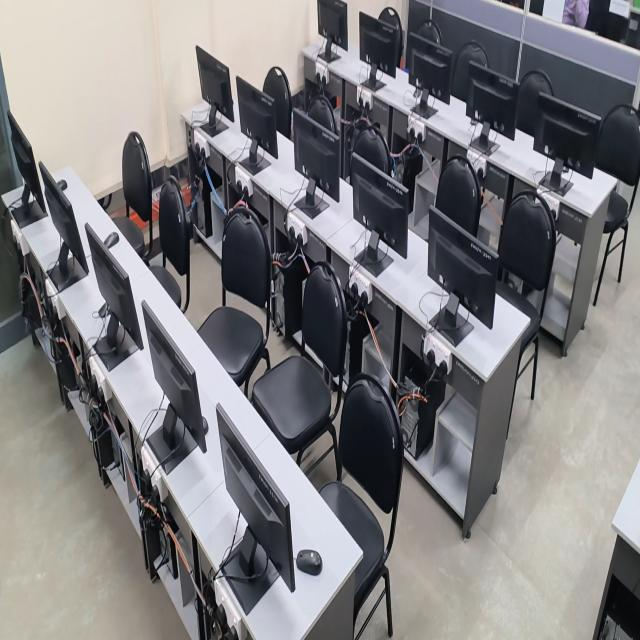Chair: (320, 373, 404, 639), (251, 262, 347, 480), (197, 206, 271, 397), (496, 191, 556, 415), (593, 104, 640, 306), (149, 175, 192, 313), (113, 132, 153, 264), (435, 155, 483, 236), (516, 71, 552, 136), (451, 40, 488, 100), (263, 67, 292, 139), (353, 126, 392, 174), (379, 7, 403, 66), (308, 95, 338, 134), (419, 18, 442, 44)
Cpu: (190, 143, 207, 235), (400, 401, 418, 456), (273, 268, 284, 335), (400, 375, 420, 395)
Monitor: (218, 411, 294, 591), (142, 301, 207, 452), (427, 207, 498, 328), (86, 224, 143, 370), (351, 151, 409, 258), (534, 92, 601, 178), (39, 162, 88, 274), (292, 109, 340, 209), (466, 60, 519, 144), (7, 110, 46, 214), (409, 32, 452, 110), (236, 77, 277, 158), (196, 46, 234, 121), (360, 12, 401, 76), (317, 0, 348, 50), (58, 247, 67, 275)
Mouse: (296, 549, 322, 575), (104, 232, 119, 248), (59, 180, 67, 190)
